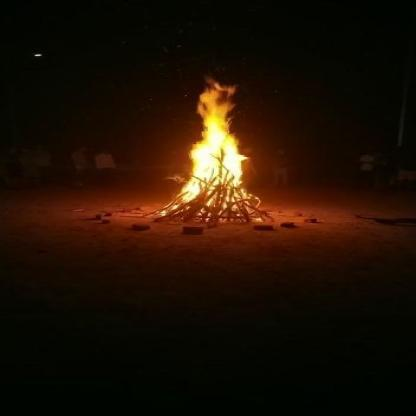fire: (160, 68, 270, 207)
